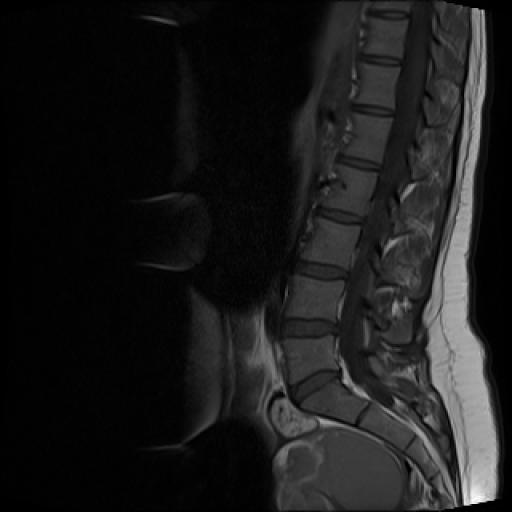L1: (343, 113, 393, 162)
L2: (322, 164, 377, 215)
L3: (300, 217, 360, 270)
L4: (286, 274, 344, 322)
L5: (282, 336, 338, 384)
S1: (301, 379, 368, 424)
